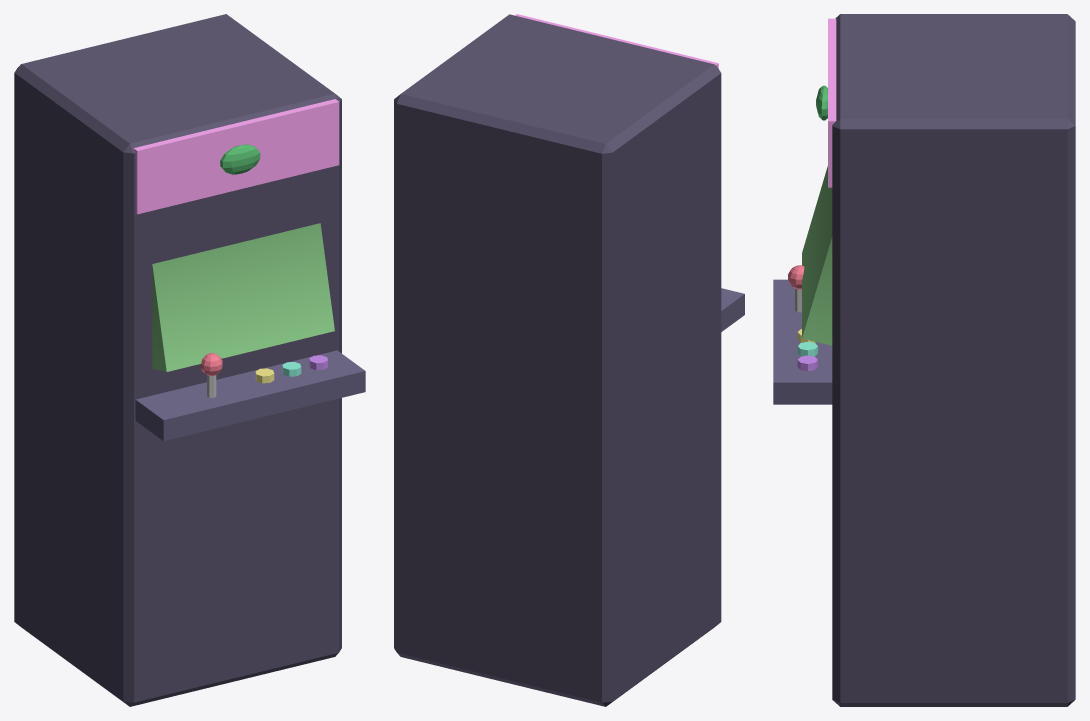
The model's file is BugArcade.fbx.
3 renders of one model, left to right at view 1: azimuth 30°, elevation 25°; view 2: azimuth 150°, elevation 25°; view 3: azimuth 270°, elevation 25°, orthographic. The views are drawn at different scales.
Visible parts, largest first — view 1: Prop_BugArcade; view 2: Prop_BugArcade; view 3: Prop_BugArcade.
Boxes of the visible parts, left/top/right/bottom form: Prop_BugArcade: left=14, top=14, right=365, bottom=706; Prop_BugArcade: left=394, top=14, right=744, bottom=706; Prop_BugArcade: left=773, top=14, right=1075, bottom=706.
Size of the model in its own units: 0.65 by 1.6 by 0.745.
